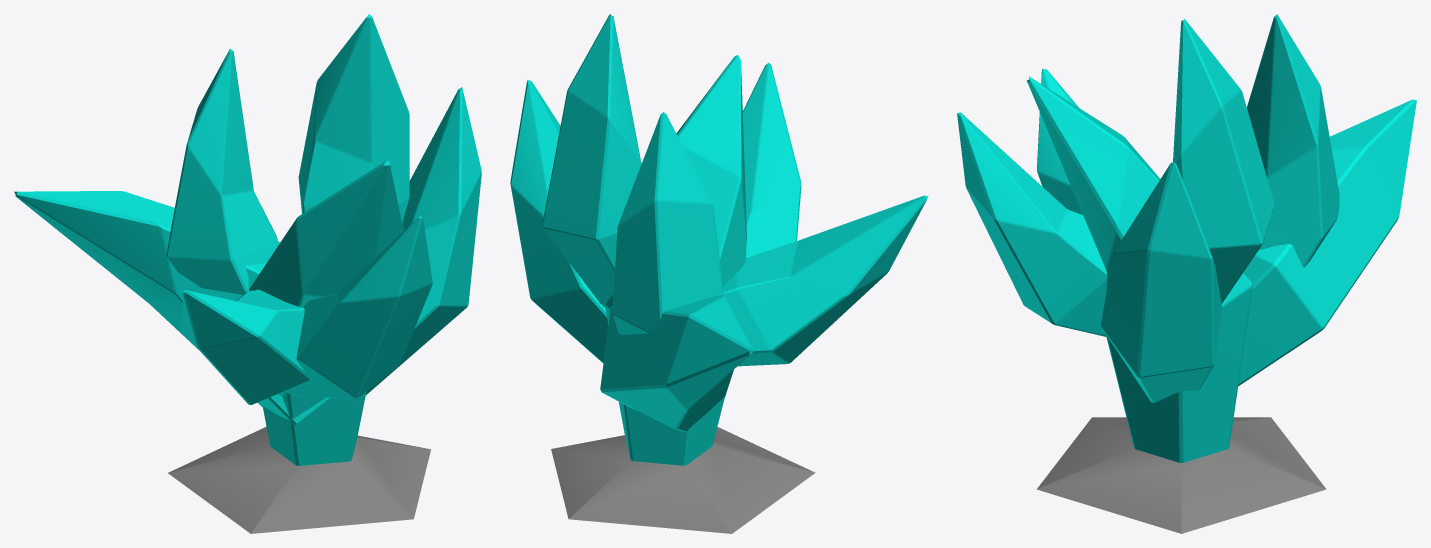
File: Corruption Node Large.fbx
The picture shows the model from 3 angles, left to right: view 1: azimuth 30°, elevation 25°; view 2: azimuth 150°, elevation 25°; view 3: azimuth 270°, elevation 25°; orthographic projection. The views are drawn at different scales.
Visible parts, largest first — view 1: pCone10; view 2: pCone10; view 3: pCone10.
Part boxes in pixels (x1,y1,x2,y2): pCone10: (14, 14, 481, 533); pCone10: (510, 14, 928, 533); pCone10: (957, 14, 1416, 533).
Bounding box in the file's own units: 8.49 × 10.49 × 9.04.
